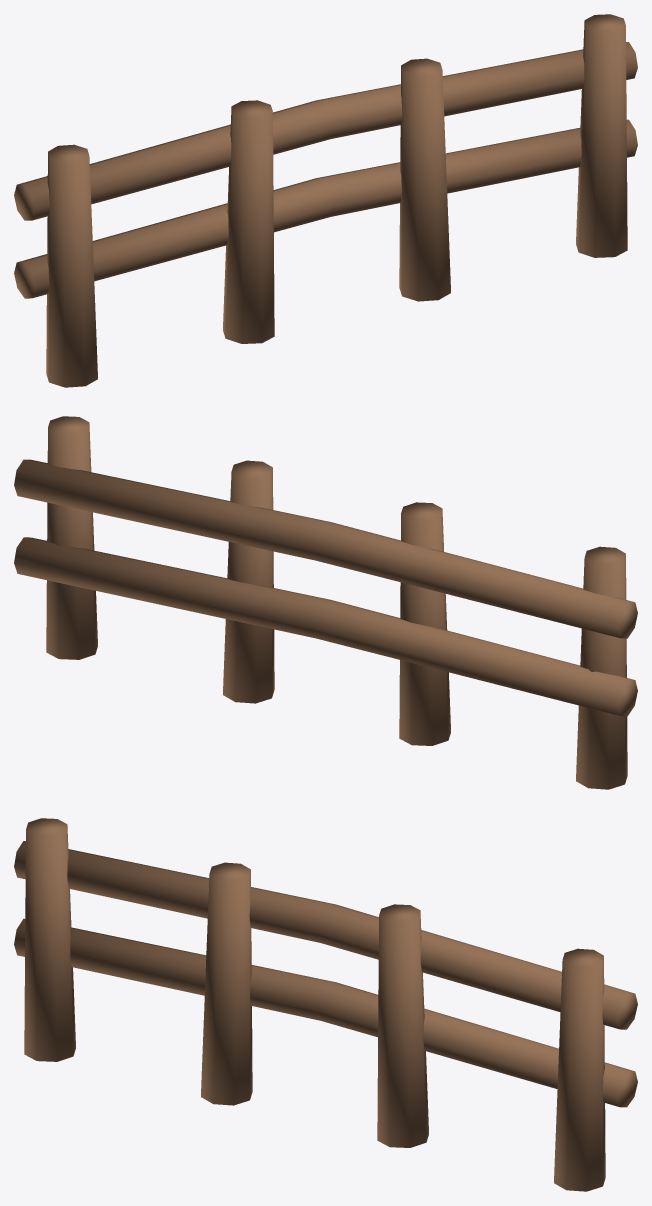
File: SM_Forest_TwigFence.fbx
The picture shows the model from 3 angles, top to bottom: view 1: azimuth 30°, elevation 25°; view 2: azimuth 150°, elevation 25°; view 3: azimuth 330°, elevation 25°; orthographic projection.
Parts seen in each view (by area): view 1: SM_Forest_TwigFence; view 2: SM_Forest_TwigFence; view 3: SM_Forest_TwigFence.
Part boxes in pixels (x1,y1,x2,y2): SM_Forest_TwigFence: [14, 14, 637, 387]; SM_Forest_TwigFence: [14, 416, 637, 789]; SM_Forest_TwigFence: [14, 818, 637, 1191].
Size of the model in its own units: 260 by 92.29 by 28.
